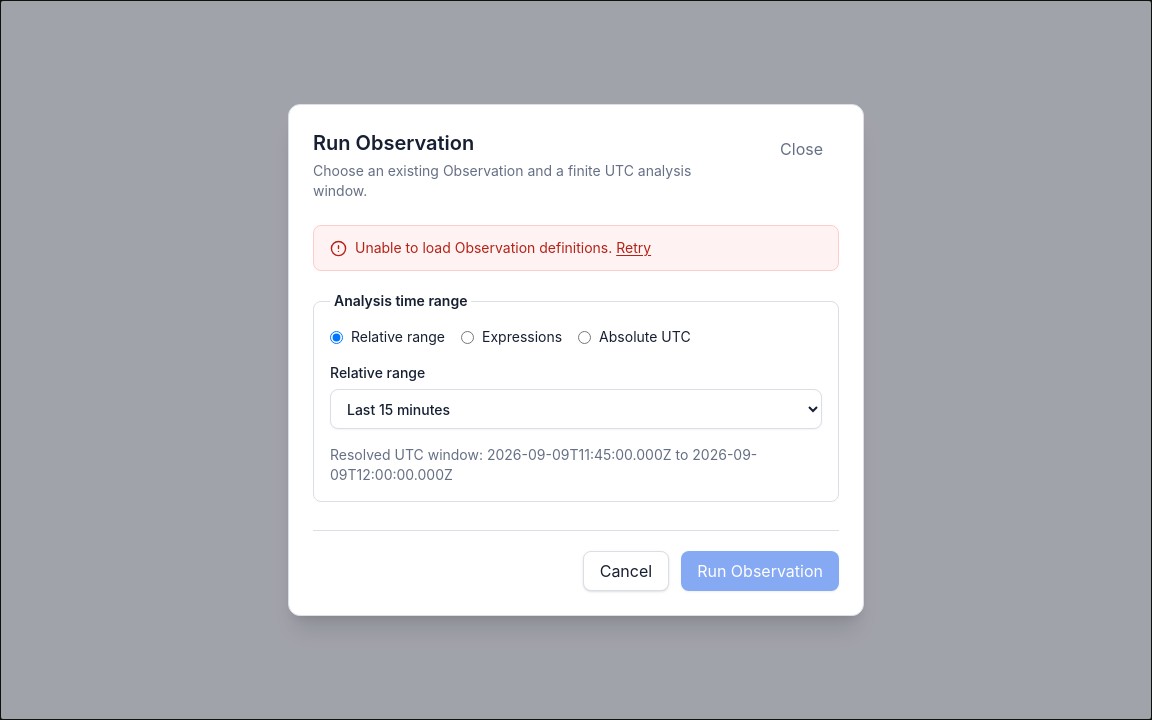
Scenario: RunObservationDialog › keeps loading, retryable failure, and successful empty definitions distinct
expect the message shows "Unable to load Observation definitions": met, box [355,239,616,256]
expect the text "No Observation is available to run." is not shown: met
Click the button "Retry". click: (634, 248)
box: [616,238,651,258]
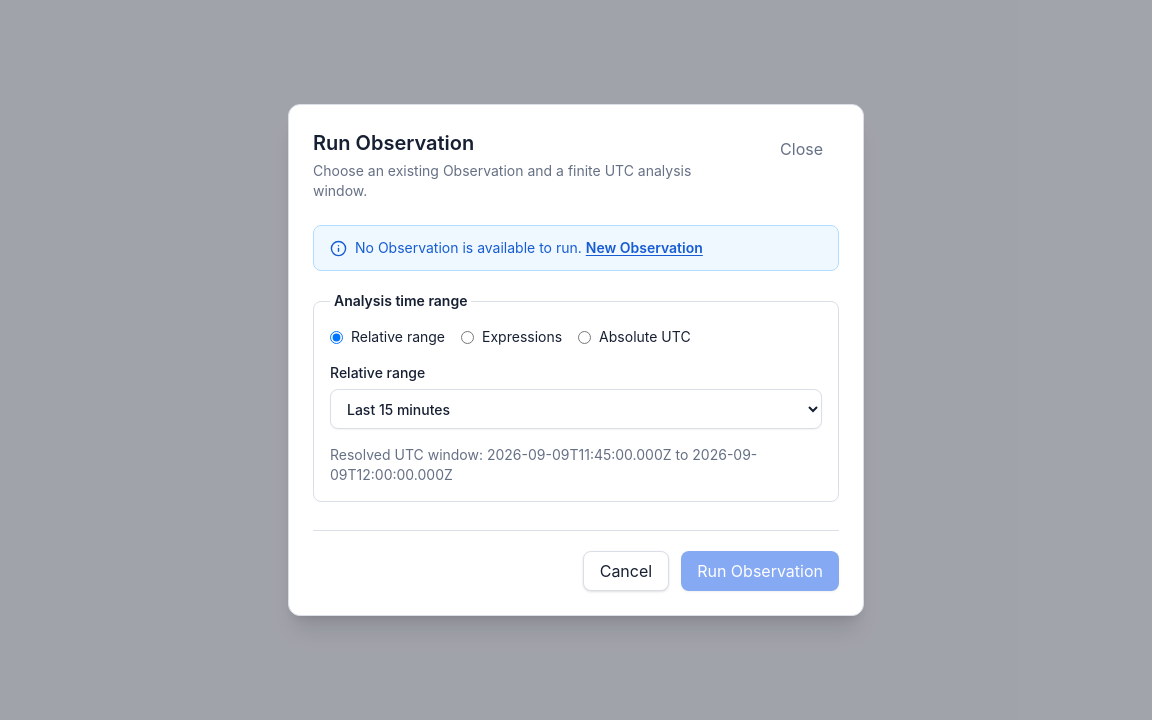
expect the button "Run Observation" is disabled: met, box [681,551,839,591]
expect the text "No Observation is available to run." is shown: met, box [355,239,586,256]
